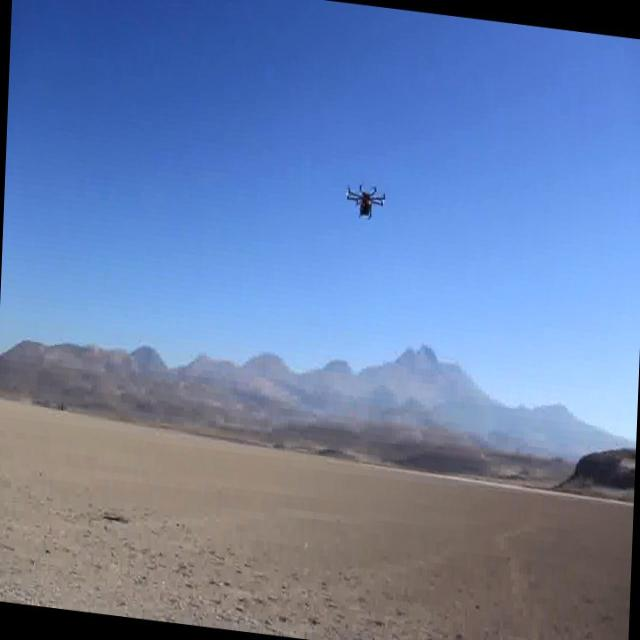drone: (346, 174, 388, 225)
